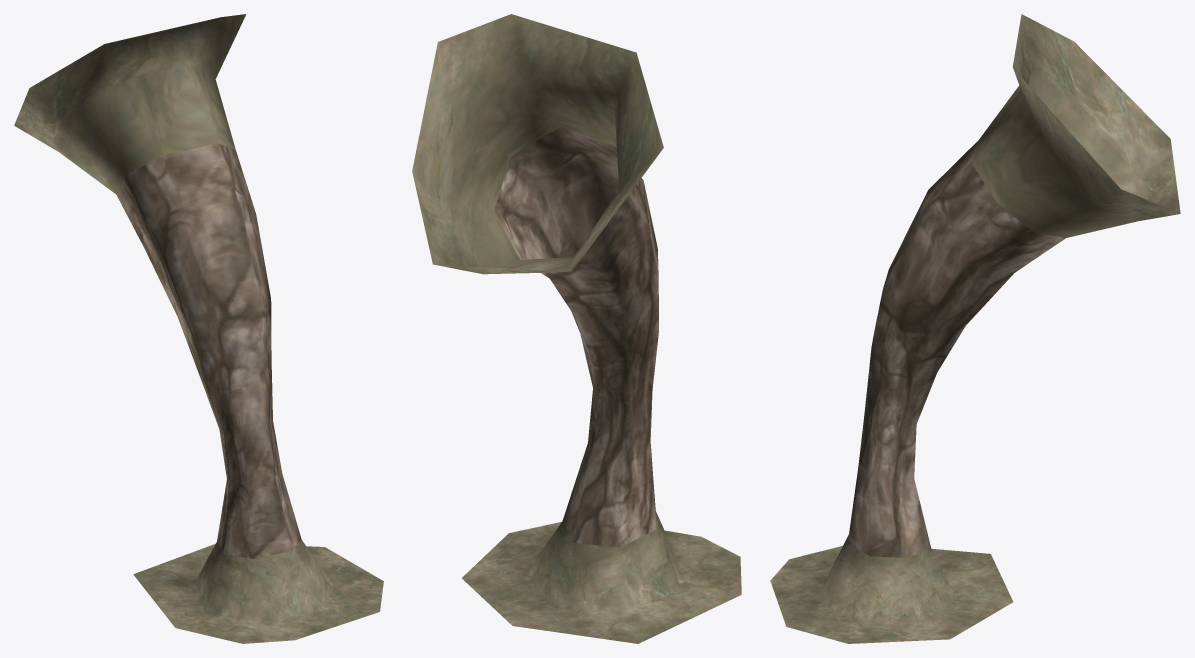
File: EKH_GROTTO_PS_GR_PIL_494948__GX.fbx
3 views of the same model, side by side, from view 1: azimuth 30°, elevation 25°; view 2: azimuth 150°, elevation 25°; view 3: azimuth 270°, elevation 25° (orthographic). The views are drawn at different scales.
Visible parts, largest first — view 1: EKH_GROTTO_PS_GR_PIL_494948__GX; view 2: EKH_GROTTO_PS_GR_PIL_494948__GX; view 3: EKH_GROTTO_PS_GR_PIL_494948__GX.
Boxes of the visible parts, x1,y1,x2,y2 form: EKH_GROTTO_PS_GR_PIL_494948__GX: (14, 14, 383, 643); EKH_GROTTO_PS_GR_PIL_494948__GX: (412, 14, 741, 643); EKH_GROTTO_PS_GR_PIL_494948__GX: (770, 14, 1180, 643).
Bounding box in the file's own units: 36913 × 75970 × 52735.
Materials: 2 (2 with a texture image).
